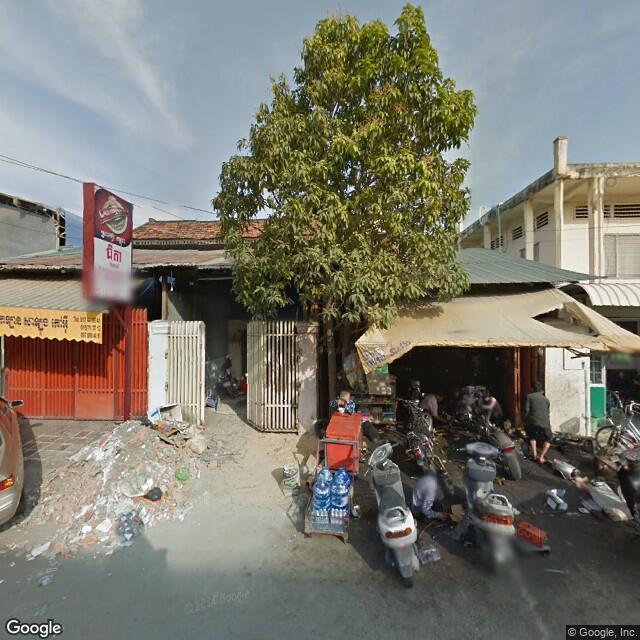litter: (77, 437, 122, 487), (158, 422, 195, 454), (206, 433, 234, 470), (68, 534, 109, 556), (66, 510, 106, 529), (168, 465, 193, 489), (133, 486, 163, 505), (26, 541, 59, 556), (33, 565, 58, 580)
